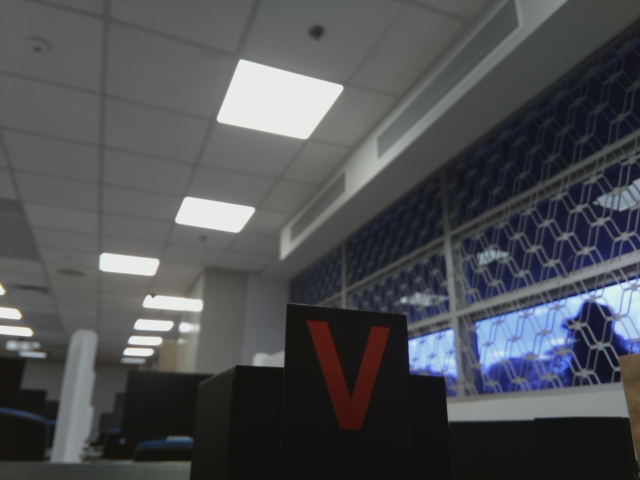v: (298, 311, 401, 440)
